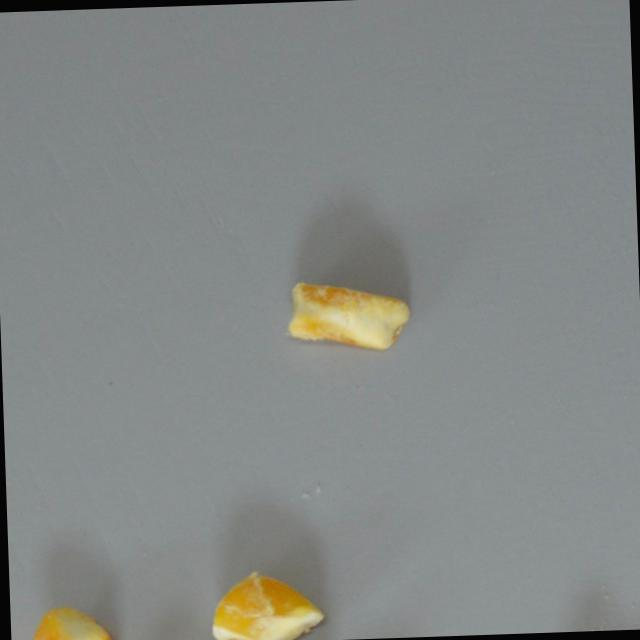pelicula: (283, 274, 412, 354), (207, 560, 328, 640), (23, 600, 124, 640)
